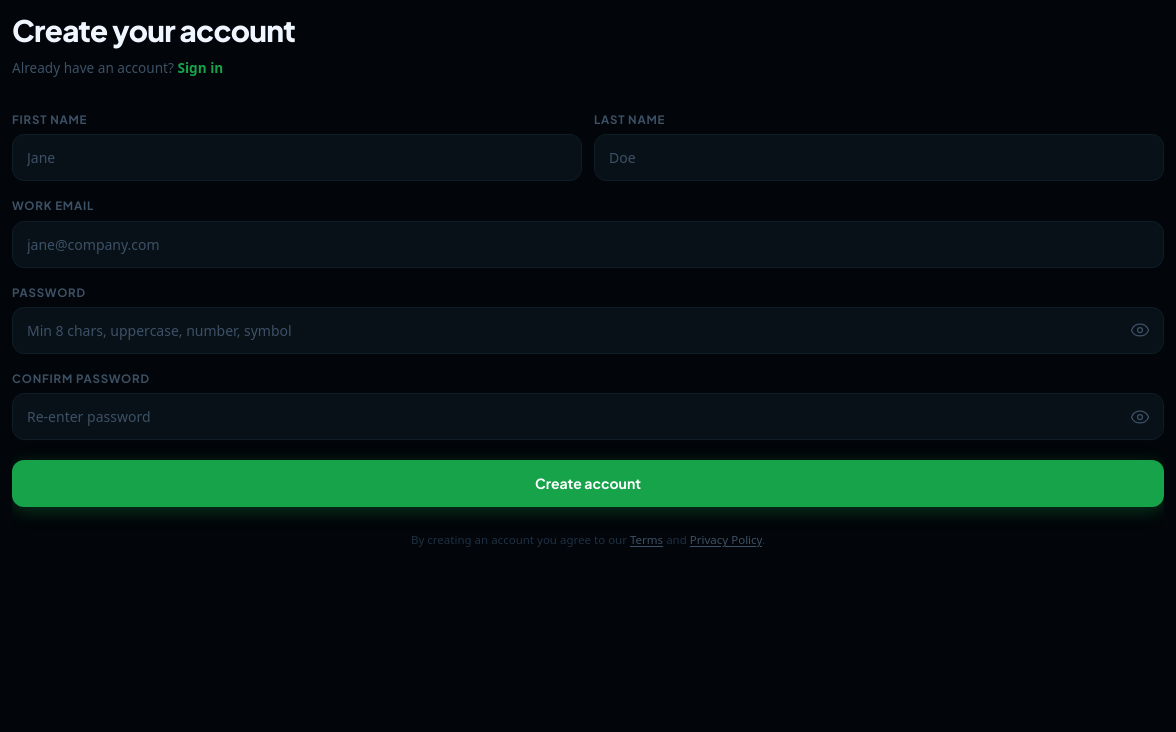
Scenario: RegisterForm › shows password strength meter when typing
The width and height of the screenshot is (1176, 732).
Using a more reliable way to find password input
Type "Weak" into the password field with placeholder "Min 8 chars, uppercase, number, symbol" at [588, 330], box [12, 307, 1164, 354]
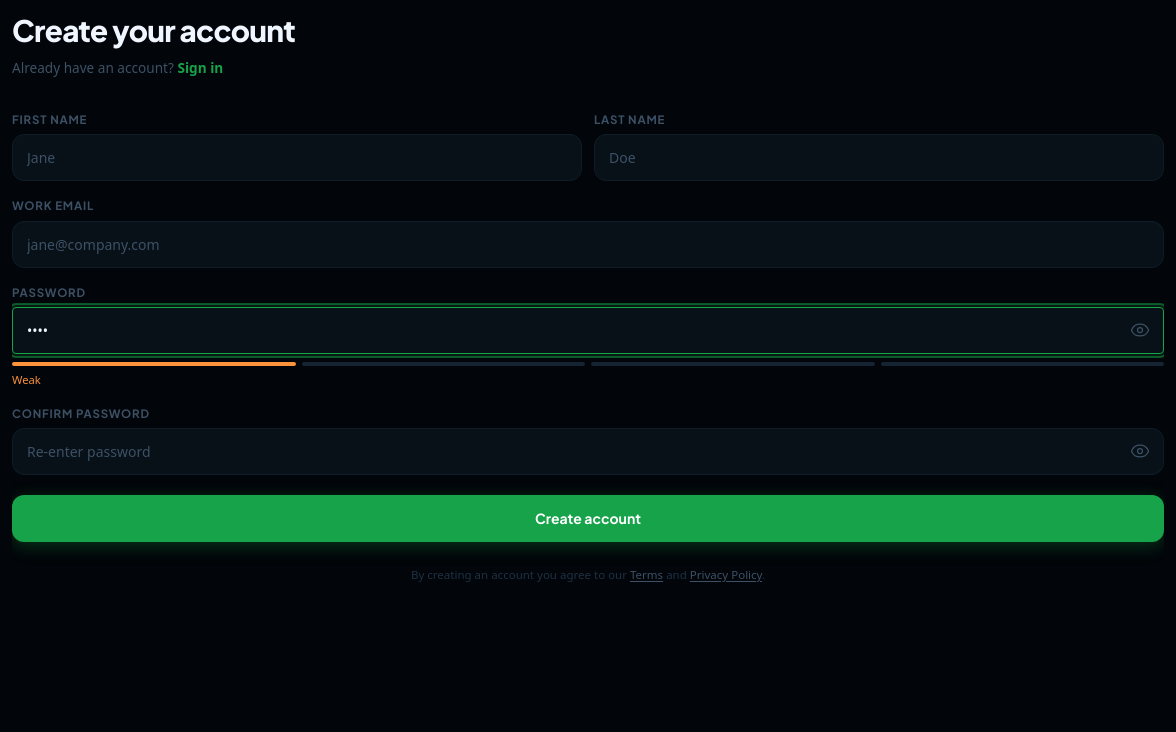
Expected: the text "Weak" is shown, [12, 372, 41, 387]
